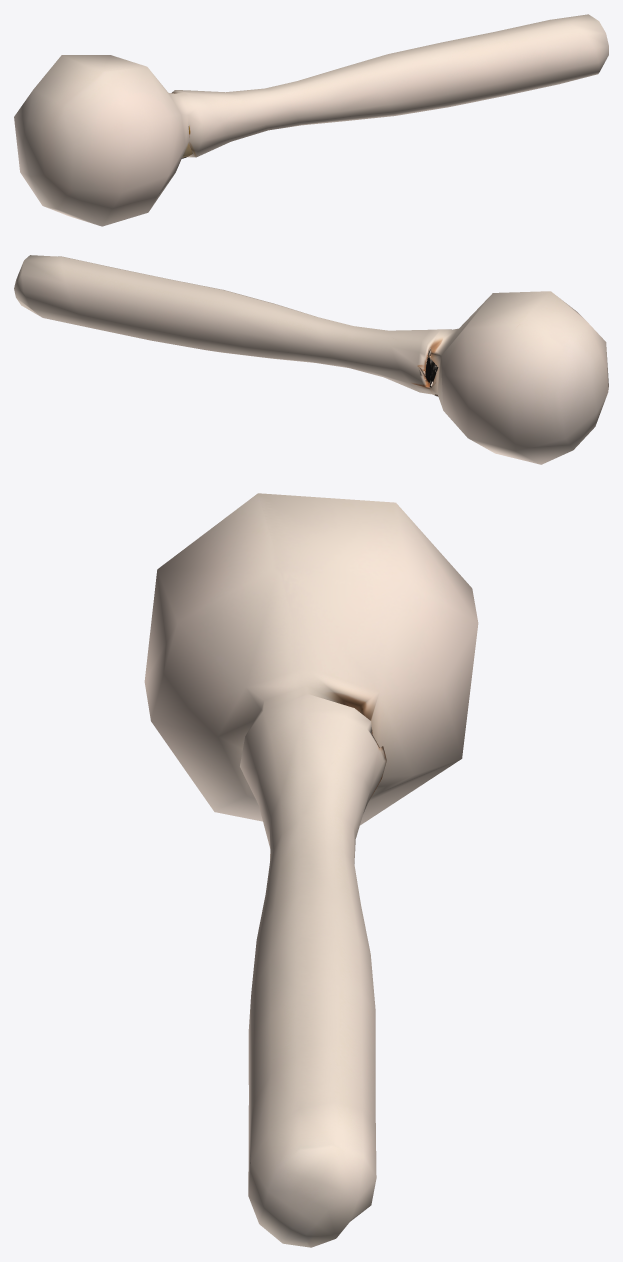
Rendered from make_a_mallet_used_for_the_singing_bowl_for_meditation-2025-12-17-155858.glb.
The picture shows the model from 3 angles, top to bottom: view 1: azimuth 30°, elevation 25°; view 2: azimuth 150°, elevation 25°; view 3: azimuth 270°, elevation 25°; orthographic projection. The views are drawn at different scales.
Size of the model in its own units: 1.91 by 0.4968 by 0.4822.
1 material, 1 textured.
